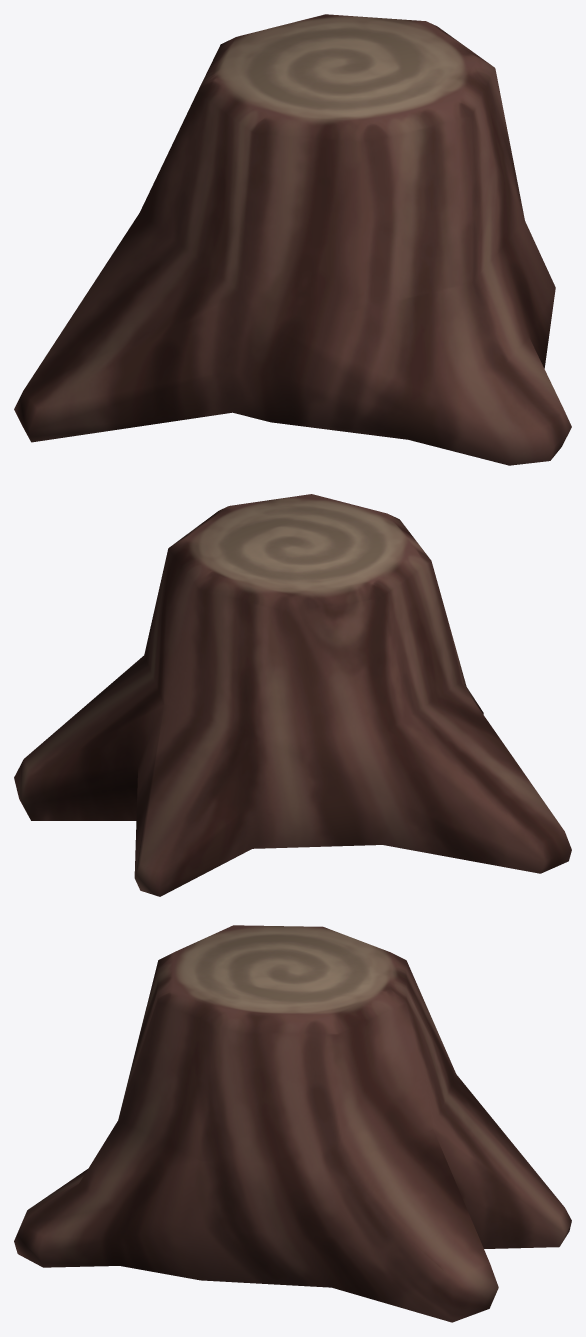
File: tree_oak_stump.fbx
3 renders of one model, top to bottom at view 1: azimuth 30°, elevation 25°; view 2: azimuth 150°, elevation 25°; view 3: azimuth 270°, elevation 25°, orthographic. The views are drawn at different scales.
Parts seen in each view (by area): view 1: oak_stump.001; view 2: oak_stump.001; view 3: oak_stump.001.
Part boxes in pixels (box(x1,y1,x2,y2)): oak_stump.001: box(14, 14, 571, 465); oak_stump.001: box(14, 494, 571, 896); oak_stump.001: box(14, 925, 571, 1322).
Size of the model in its own units: 177 by 91.62 by 175.
